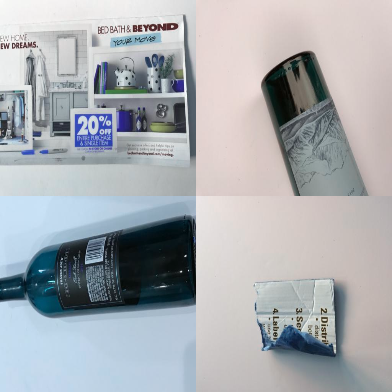cardboard: (252, 279, 338, 358)
glass: (1, 215, 196, 319), (261, 51, 371, 195)
paper: (1, 15, 190, 168)
